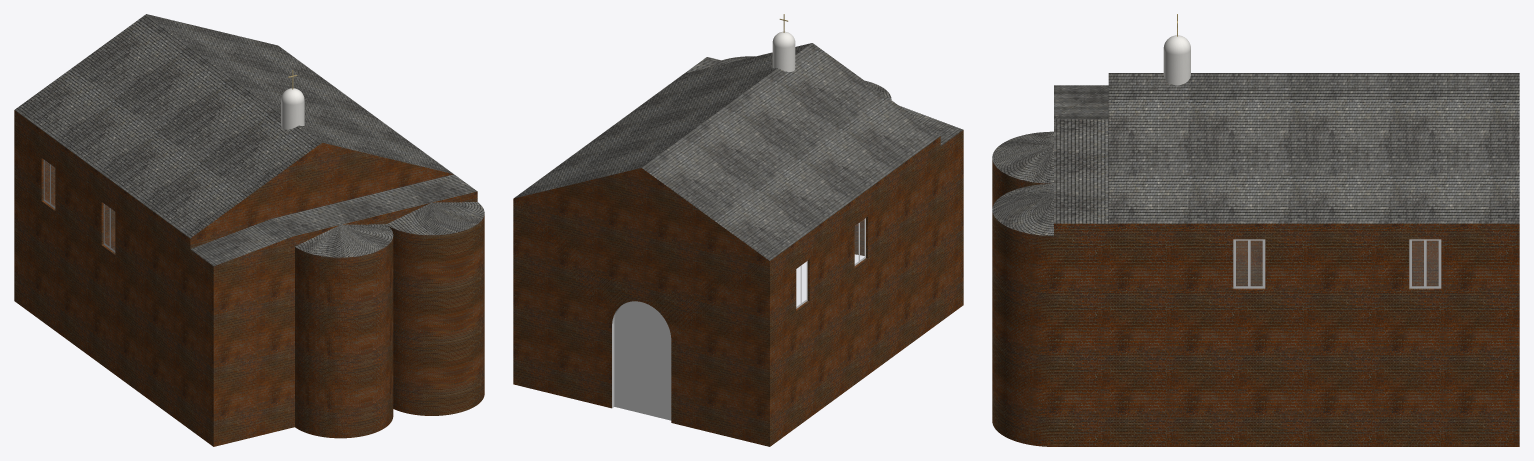
The model's file is kolozhskaya.glb.
3 renders of one model, left to right at view 1: azimuth 30°, elevation 25°; view 2: azimuth 150°, elevation 25°; view 3: azimuth 270°, elevation 25°, orthographic. The views are drawn at different scales.
Parts seen in each view (by area): view 1: Geom3D (×4); view 2: Geom3D (×4), Geom3D_; view 3: Geom3D (×4), Geom3D_.
Part boxes in pixels (box(x1,y1,x2,y2)): Geom3D (×4): box(14, 14, 484, 446); Geom3D (×4): box(513, 31, 963, 446); Geom3D_: box(612, 218, 865, 420); Geom3D (×4): box(992, 35, 1519, 446); Geom3D_: box(1233, 239, 1441, 288).
Bounding box in the file's own units: 13 × 14.4 × 19.25.
Materials: 5 (4 with a texture image).
